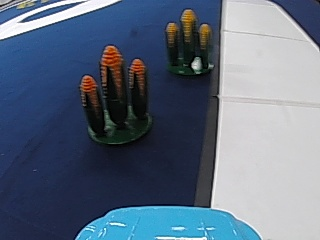corn: (78, 43, 154, 145), (162, 11, 213, 76)
